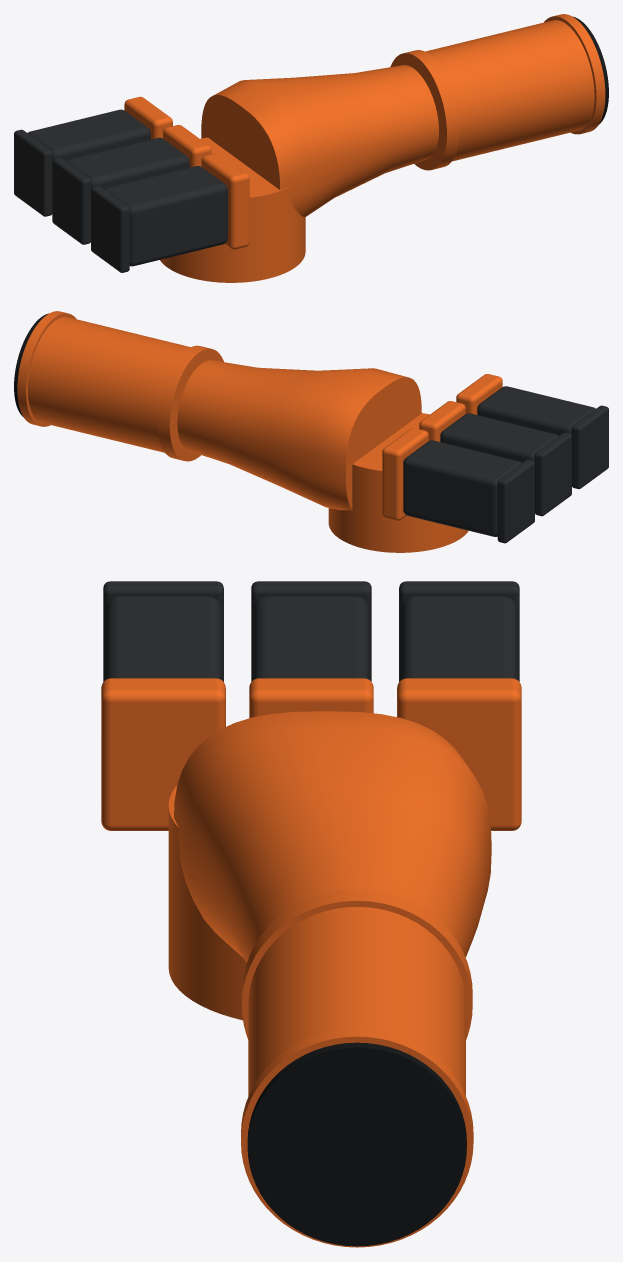
The picture shows the model from 3 angles, top to bottom: view 1: azimuth 30°, elevation 25°; view 2: azimuth 150°, elevation 25°; view 3: azimuth 270°, elevation 25°; orthographic projection. The views are drawn at different scales.
Parts seen in each view (by area): view 1: forearm_casting, l150_extension_tube, elbow_motor_0, elbow_hub, elbow_motor_1, elbow_motor_2, extension_root_ring, elbow_motor_end_1, elbow_motor_end_2, elbow_motor_end_0, elbow_motor_mount_0, extension_end_ring (+3 smaller); view 2: forearm_casting, l150_extension_tube, elbow_motor_2, elbow_hub, elbow_motor_0, elbow_motor_1, extension_root_ring, elbow_motor_end_2, elbow_motor_end_1, elbow_motor_end_0, elbow_motor_mount_2, extension_end_ring (+3 smaller); view 3: forearm_casting, a4_seal, l150_extension_tube, elbow_motor_mount_0, elbow_motor_mount_2, elbow_motor_1, elbow_motor_0, elbow_motor_2, elbow_hub, extension_end_ring, extension_root_ring, elbow_motor_mount_1 (+3 smaller).
Boxes of the visible parts, x1=… form: forearm_casting: x1=201, y1=65, x2=438, y2=217; l150_extension_tube: x1=425, y1=20, x2=594, y2=161; elbow_motor_0: x1=104, y1=166, x2=227, y2=266; elbow_hub: x1=160, y1=137, x2=305, y2=282; elbow_motor_1: x1=66, y1=137, x2=189, y2=189; elbow_motor_2: x1=27, y1=109, x2=150, y2=160; extension_root_ring: x1=390, y1=50, x2=459, y2=170; elbow_motor_end_1: x1=52, y1=158, x2=91, y2=244; elbow_motor_end_2: x1=14, y1=129, x2=52, y2=216; elbow_motor_end_0: x1=91, y1=186, x2=129, y2=272; elbow_motor_mount_0: x1=201, y1=153, x2=249, y2=249; extension_end_ring: x1=544, y1=14, x2=605, y2=134; forearm_casting: x1=177, y1=360, x2=421, y2=510; l150_extension_tube: x1=28, y1=317, x2=190, y2=452; elbow_motor_2: x1=403, y1=440, x2=521, y2=536; elbow_hub: x1=328, y1=413, x2=468, y2=552; elbow_motor_0: x1=477, y1=386, x2=595, y2=435; elbow_motor_1: x1=440, y1=413, x2=558, y2=462; extension_root_ring: x1=157, y1=345, x2=223, y2=461; elbow_motor_end_2: x1=497, y1=459, x2=534, y2=543; elbow_motor_end_1: x1=534, y1=432, x2=571, y2=516; elbow_motor_end_0: x1=571, y1=405, x2=608, y2=488; elbow_motor_mount_2: x1=382, y1=428, x2=428, y2=520; extension_end_ring: x1=17, y1=311, x2=76, y2=426; forearm_casting: x1=174, y1=711, x2=491, y2=962; a4_seal: x1=247, y1=1042, x2=466, y2=1246; l150_extension_tube: x1=248, y1=907, x2=465, y2=1096; elbow_motor_mount_0: x1=101, y1=678, x2=225, y2=830; elbow_motor_mount_2: x1=397, y1=678, x2=521, y2=830; elbow_motor_1: x1=253, y1=596, x2=369, y2=679; elbow_motor_0: x1=106, y1=596, x2=221, y2=679; elbow_motor_2: x1=401, y1=596, x2=516, y2=679; elbow_hub: x1=168, y1=785, x2=246, y2=1020; extension_end_ring: x1=241, y1=1028, x2=473, y2=1247; extension_root_ring: x1=241, y1=889, x2=472, y2=1039; elbow_motor_mount_1: x1=249, y1=678, x2=373, y2=718.
Bounding box in the file's own units: 1.4 × 0.3705 × 0.506.
